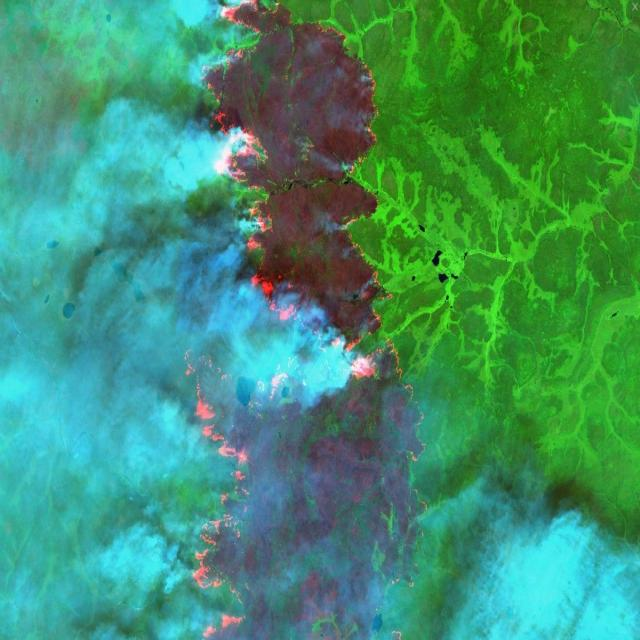fire: (182, 0, 414, 640)
